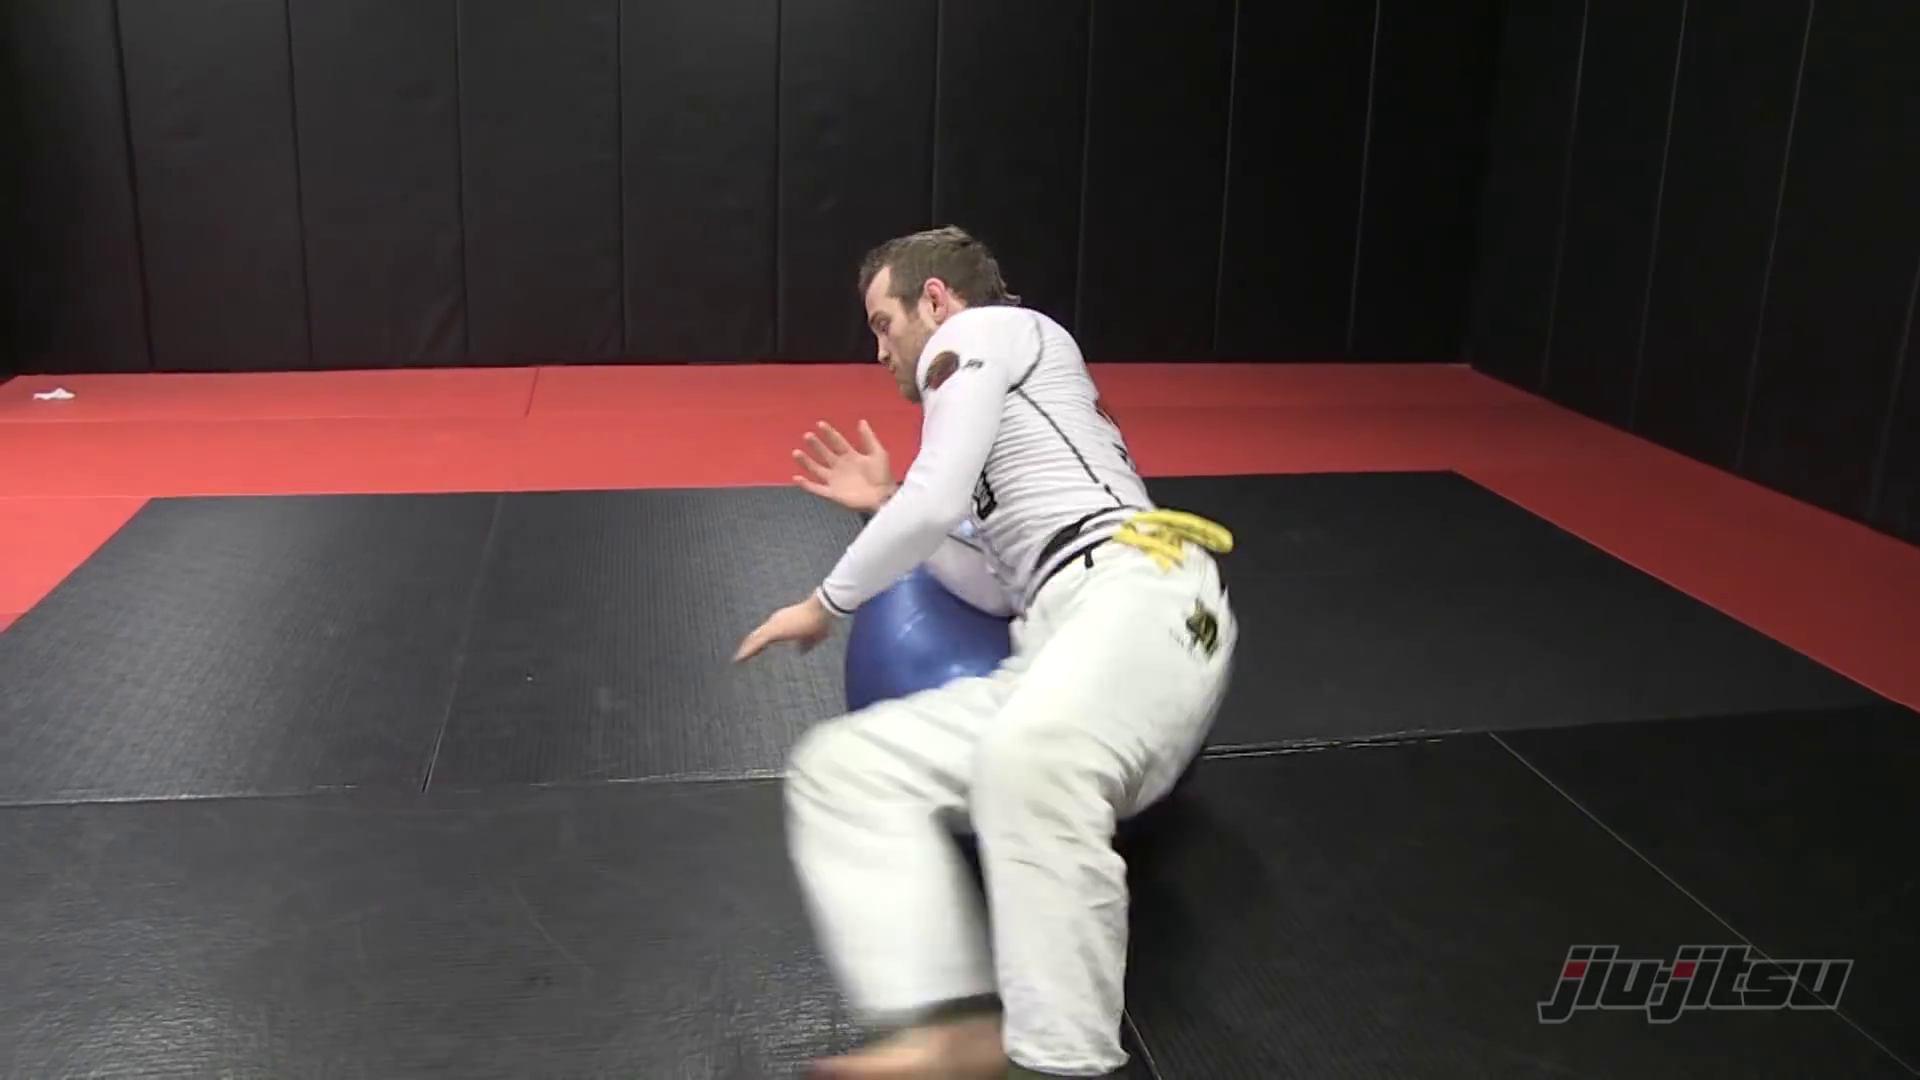yogaball: (819, 549, 1092, 793)
